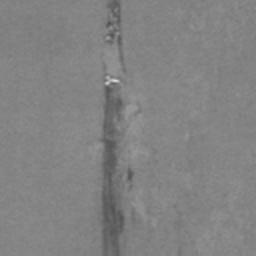Slag inclusion: (100, 68, 125, 256), (104, 0, 128, 74), (125, 160, 134, 188)
